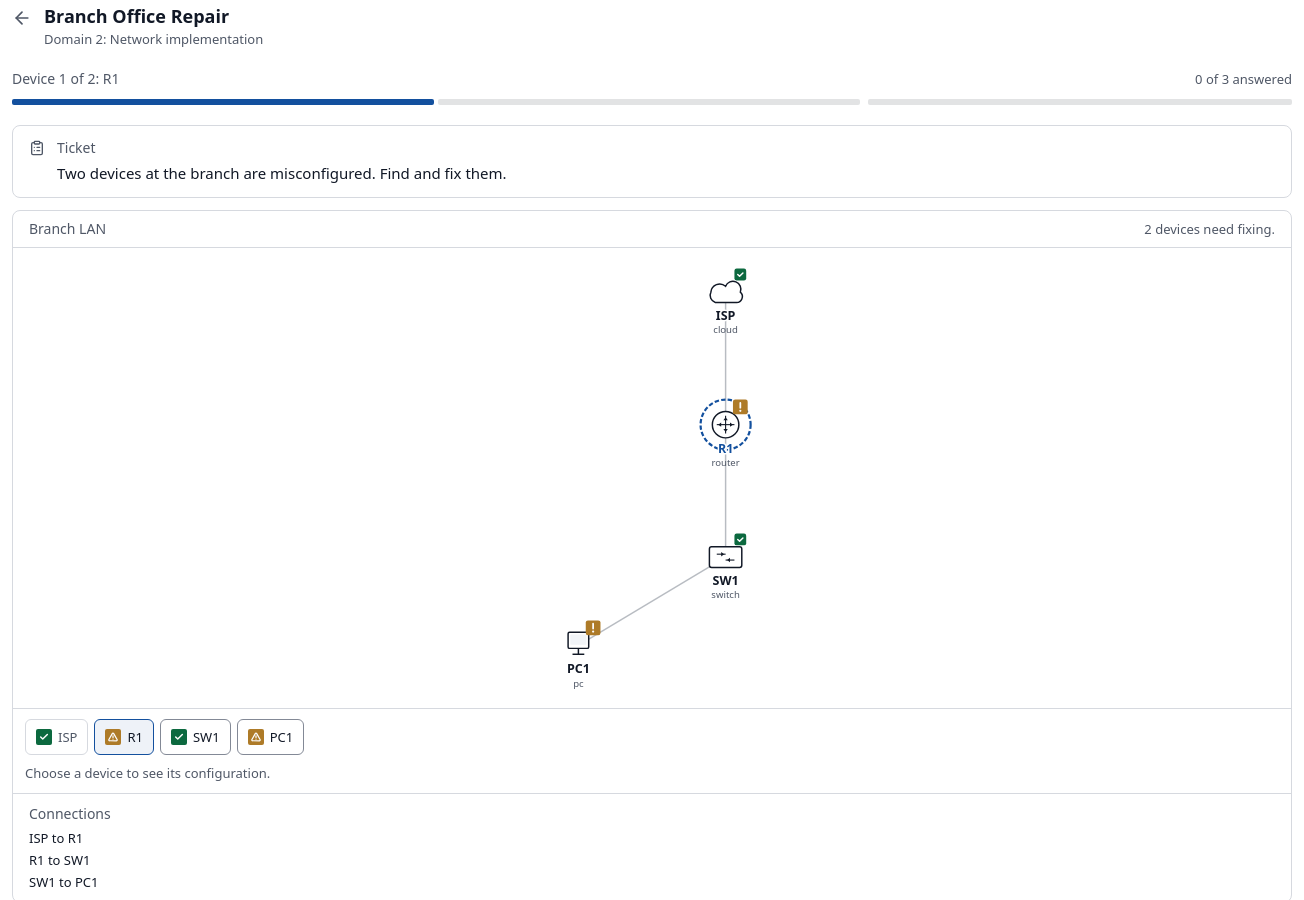
Scenario: topology labs, played on the map › shows any device's configuration when it is chosen, and goes back to the one being fixed
Click the button with aria-label "SW1, correct as it is": click(195, 737) x1=160 y1=719 x2=231 y2=755
(page scrolled)
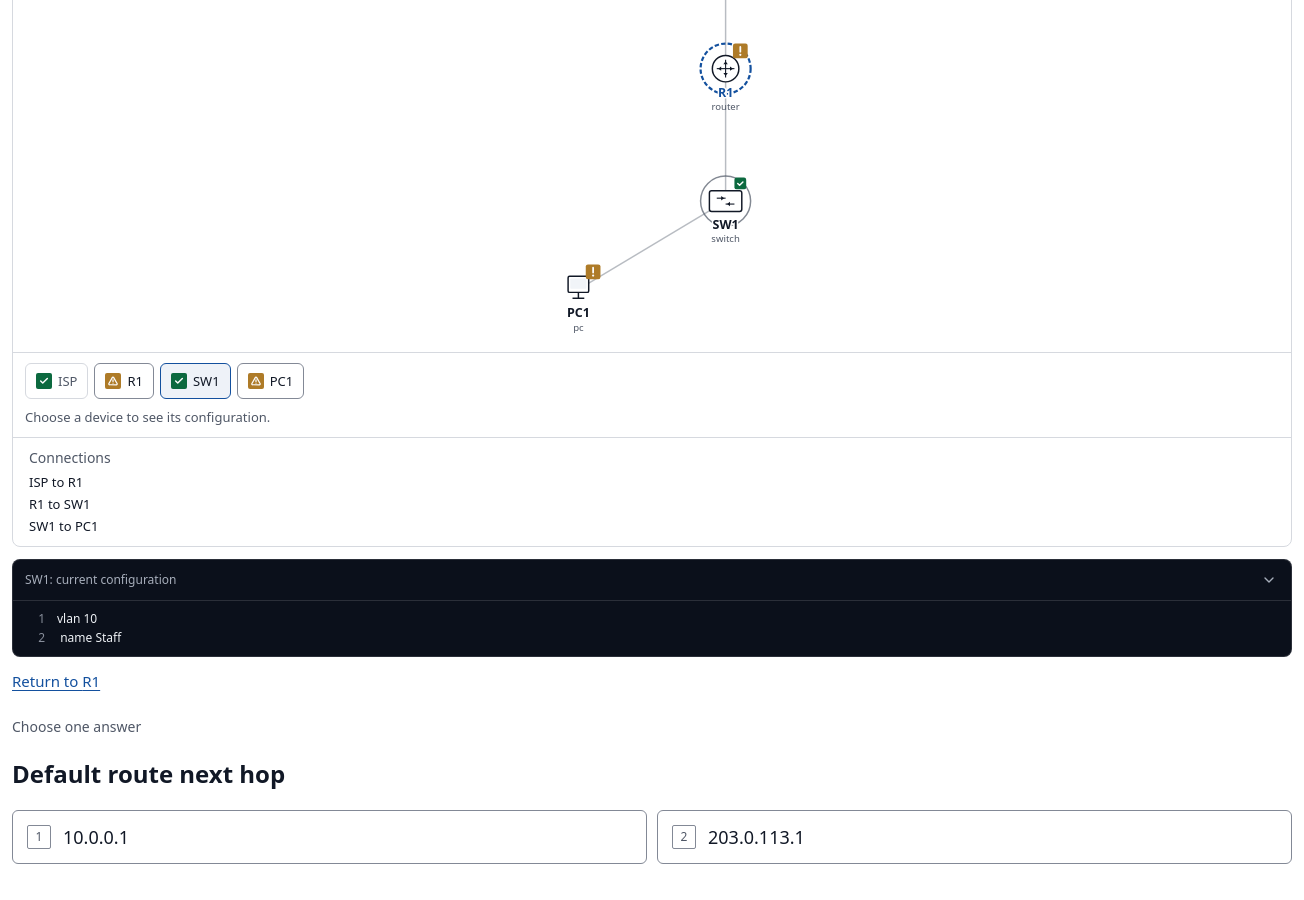
Now the text "SW1: current configuration" is shown, box x1=25 y1=571 x2=176 y2=588
Now the text "vlan 10" is shown, box x1=57 y1=610 x2=97 y2=627
Click the button "Return to R1": click(56, 681) x1=12 y1=669 x2=100 y2=693
(page scrolled)
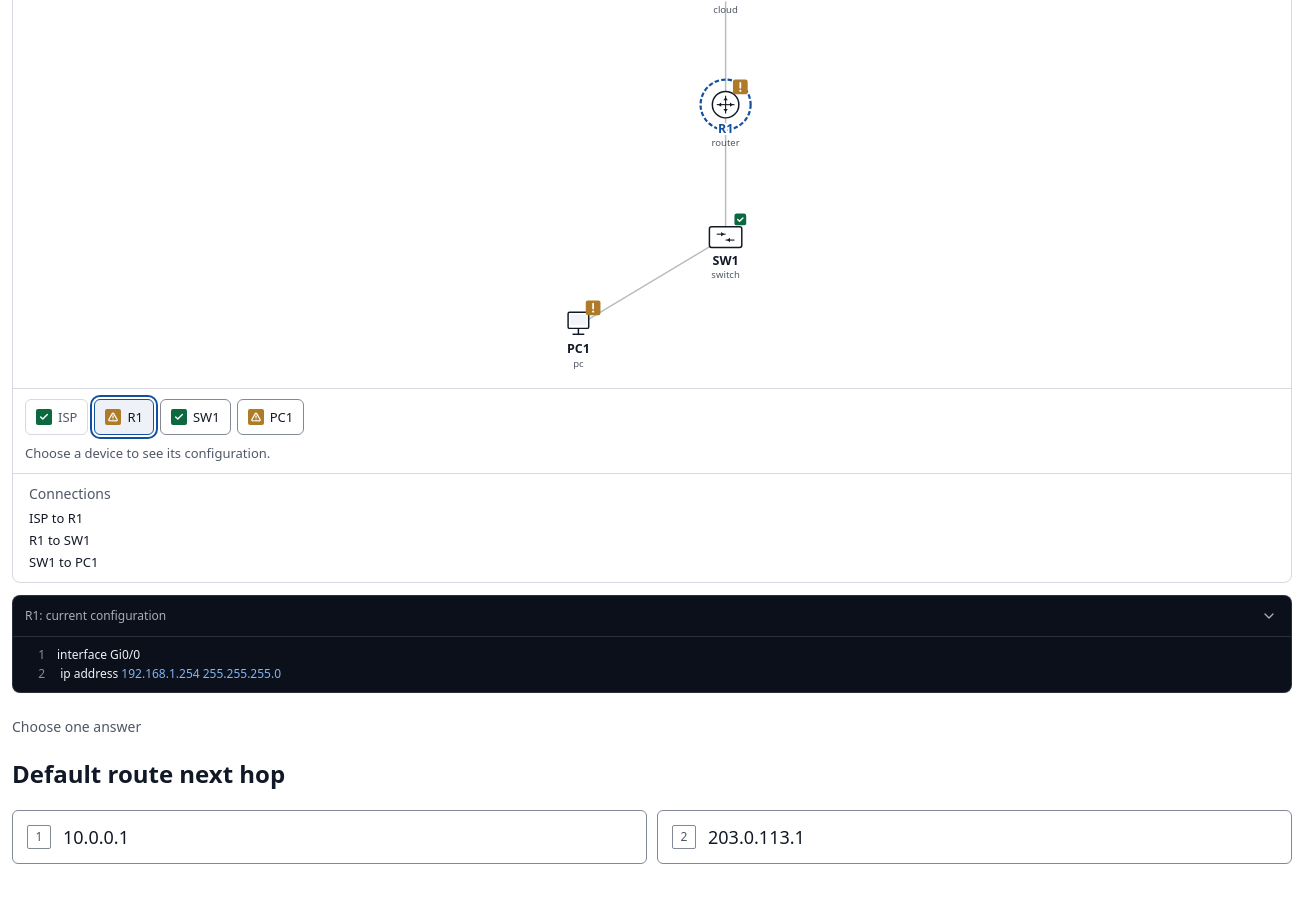
Expected: the button with aria-label "ISP, correct as it is" is disabled, x1=25 y1=399 x2=88 y2=435
Now the text "R1: current configuration" is shown, box x1=25 y1=607 x2=166 y2=624
Now the button "Return to R1" is gone
